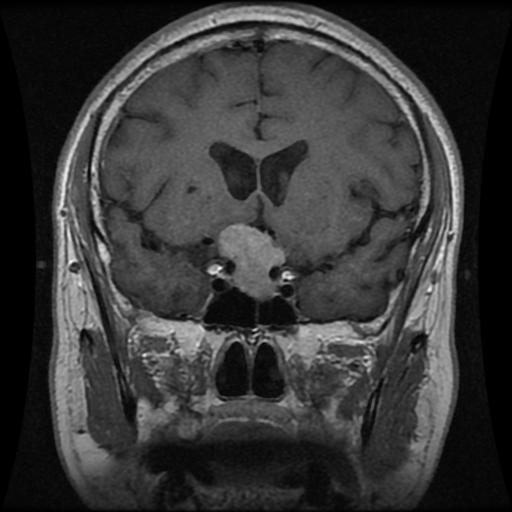Pituirity_tumour: (217, 223, 283, 298)
